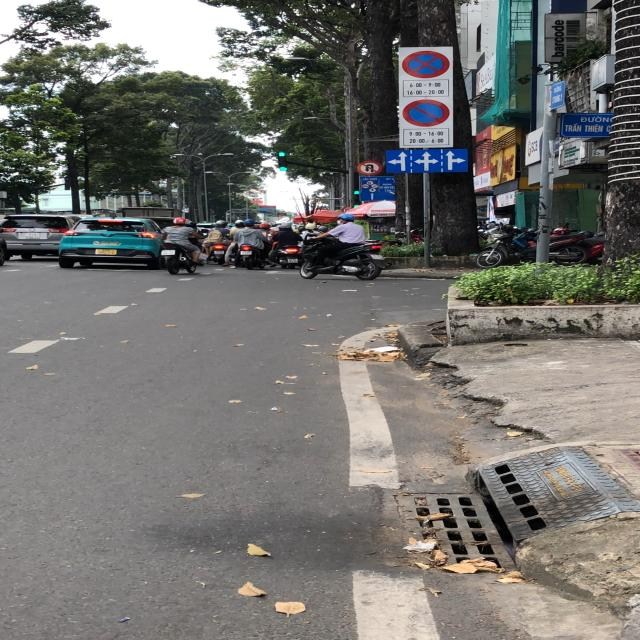Bien bao cam do xe: (400, 99, 452, 128)
Bien bao cam dung xe va do xe: (399, 48, 453, 78)
Bien bao cam quay dau xe: (356, 159, 384, 177)
